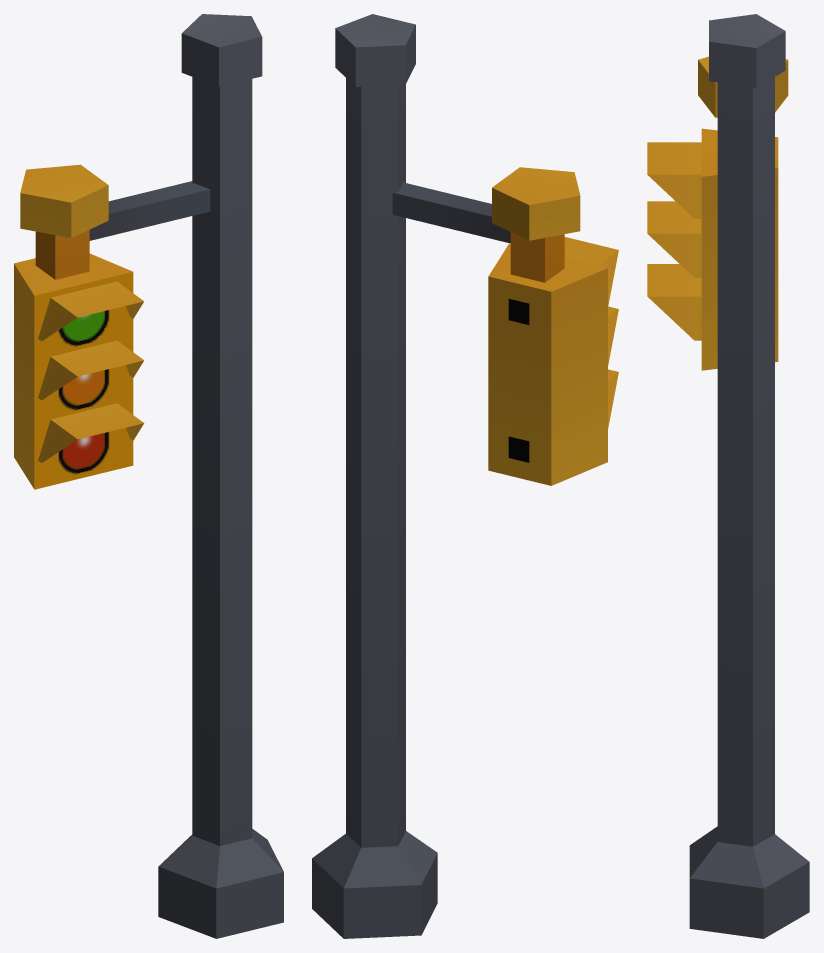
File: SM_Traffic_Light_2.FBX
3 views of the same model, side by side, from view 1: azimuth 30°, elevation 25°; view 2: azimuth 150°, elevation 25°; view 3: azimuth 270°, elevation 25° (orthographic).
Parts seen in each view (by area): view 1: SM_Traffic_Light_2; view 2: SM_Traffic_Light_2; view 3: SM_Traffic_Light_2.
Part boxes in pixels (left/top/right/bottom): SM_Traffic_Light_2: left=14, top=14, right=283, bottom=938; SM_Traffic_Light_2: left=312, top=14, right=618, bottom=938; SM_Traffic_Light_2: left=647, top=14, right=809, bottom=938.
Size of what is drawn, in the model's own units: 193 by 102 by 614.
